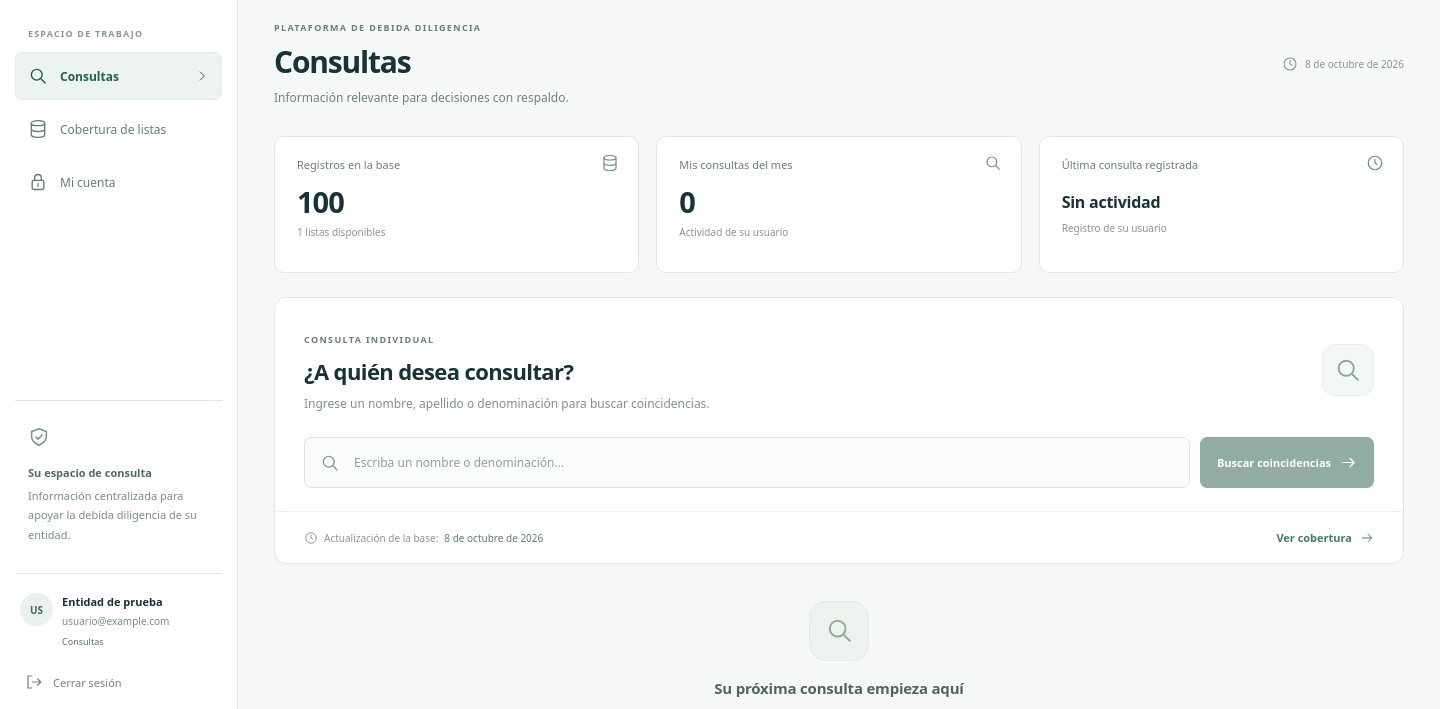
filtrar por lista y relevancia no ejecuta otra búsqueda ni altera el historial
The width and height of the screenshot is (1440, 709).
Expected: the button "Buscar coincidencias" is disabled, top-left (1200, 437), bottom-right (1374, 488)
Expected: the text "usuario@example.com" is shown, top-left (62, 614), bottom-right (170, 628)
Type "Persona" into the search field.
click(763, 463); type("Persona")  # box top-left (352, 438), bottom-right (1174, 487)
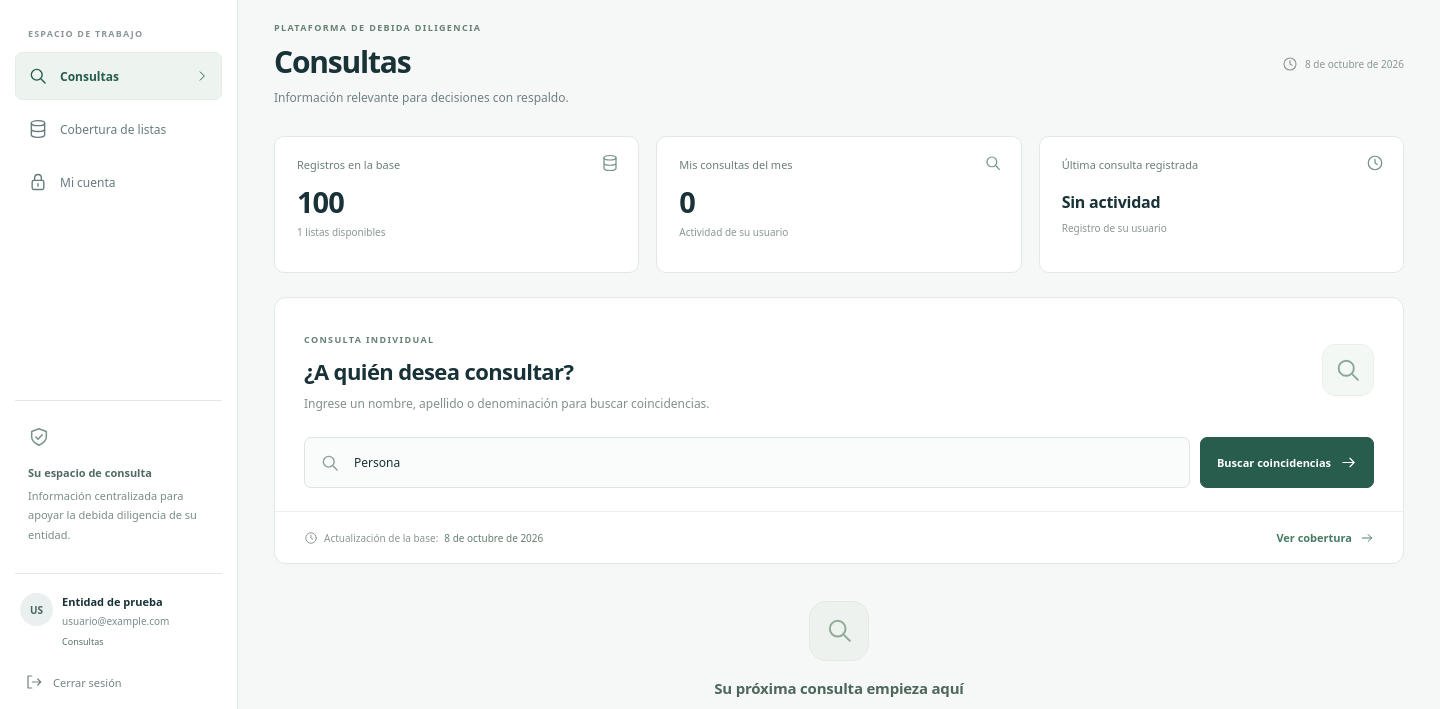
Click the button "Buscar coincidencias".
click(1287, 463)  # box top-left (1200, 437), bottom-right (1374, 488)
(page scrolled)
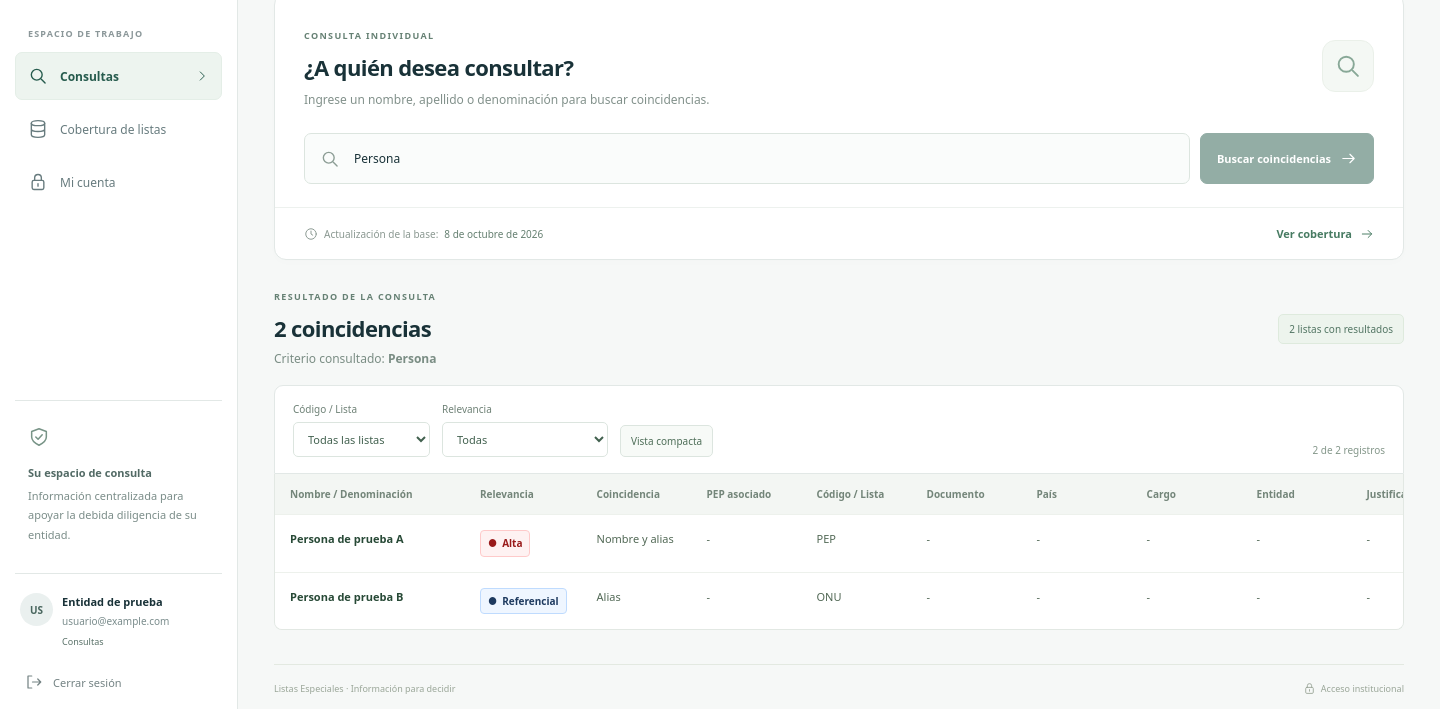
Expected: the text "Persona de prueba A" is shown, top-left (275, 514), bottom-right (465, 572)
Select "PEP" in the dropdown labelled "Código / Lista" at [362, 440], box top-left (293, 422), bottom-right (430, 457)
(page scrolled)
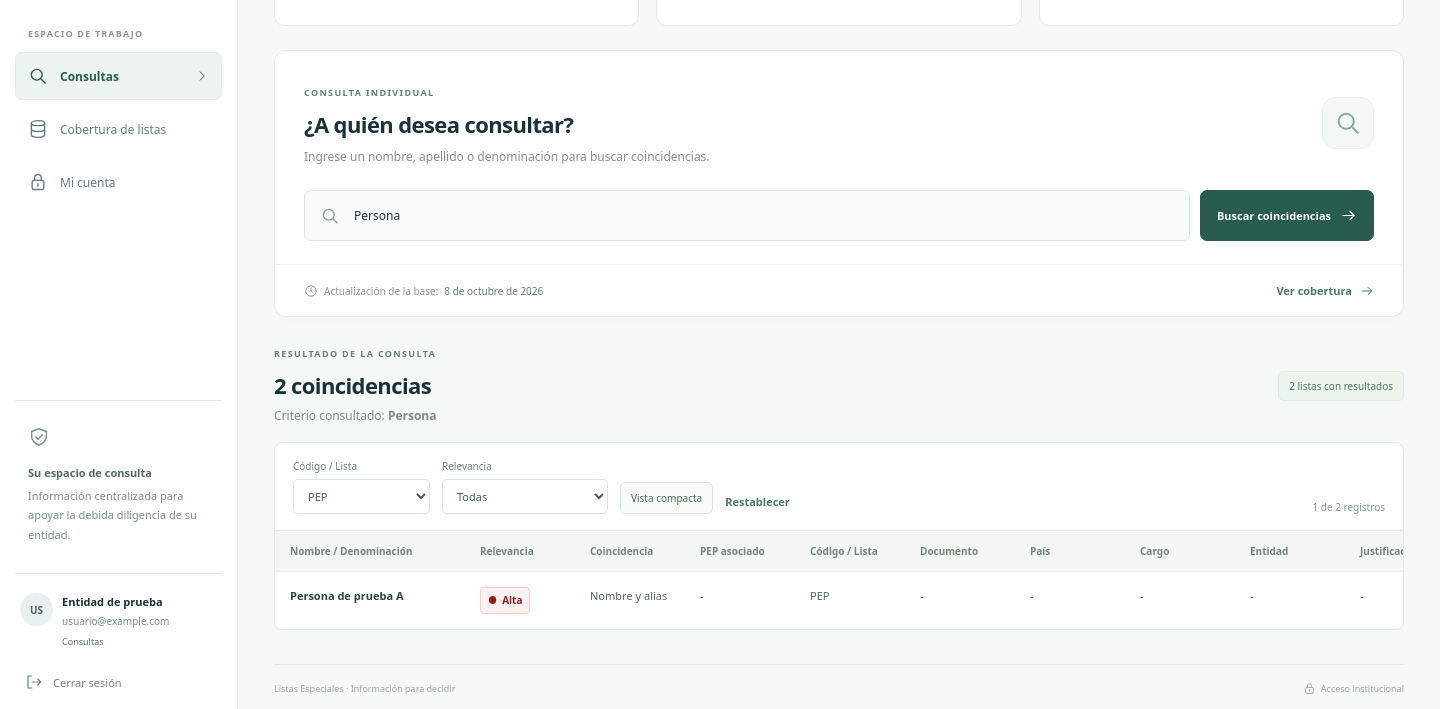
Expected: the text "Persona de prueba B" is gone
Select "Referencial · Alias" in the dropdown labelled "Relevancia" at [525, 497], box top-left (442, 479), bottom-right (608, 514)
(page scrolled)
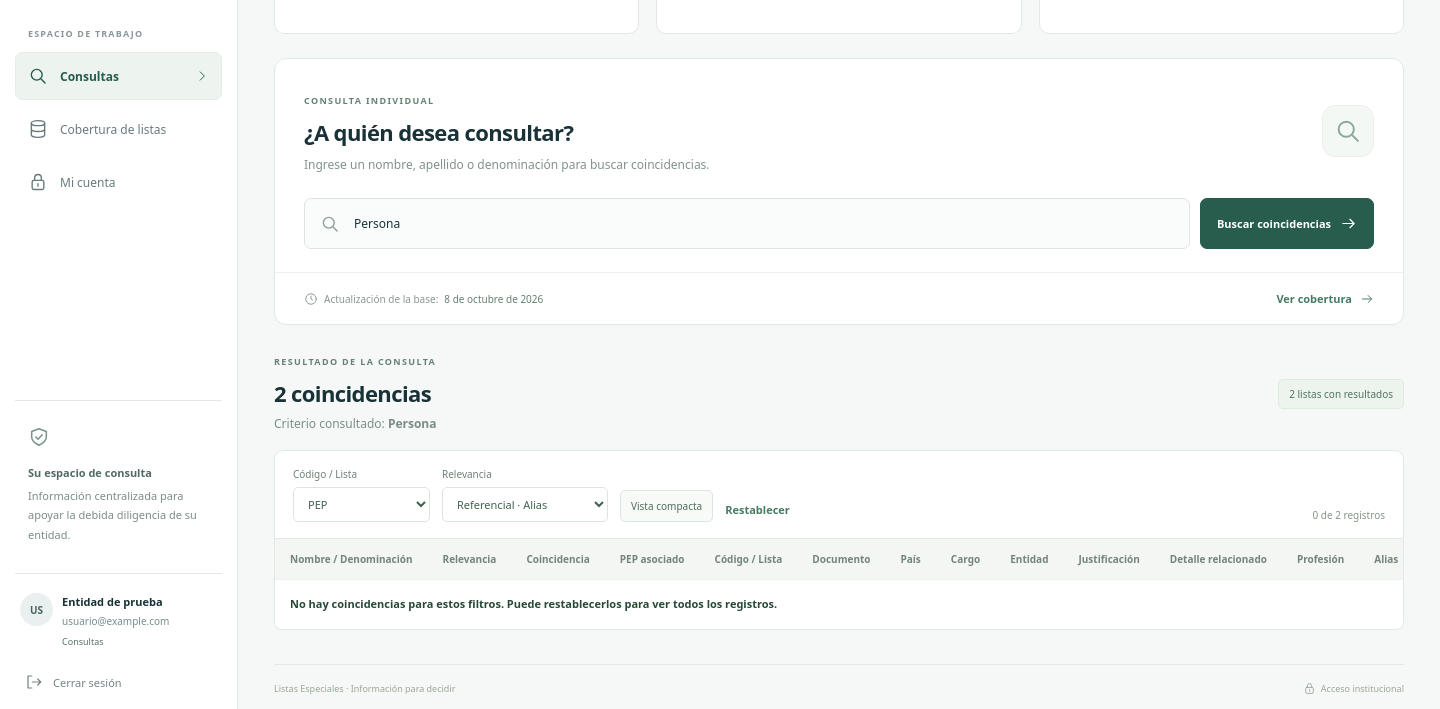
Expected: the text "Persona de prueba A" is gone
Expected: the text "No hay coincidencias para estos filtros" is shown, top-left (290, 596), bottom-right (777, 611)
Click the button "Restablecer".
click(758, 510)  # box top-left (725, 497), bottom-right (790, 522)
(page scrolled)
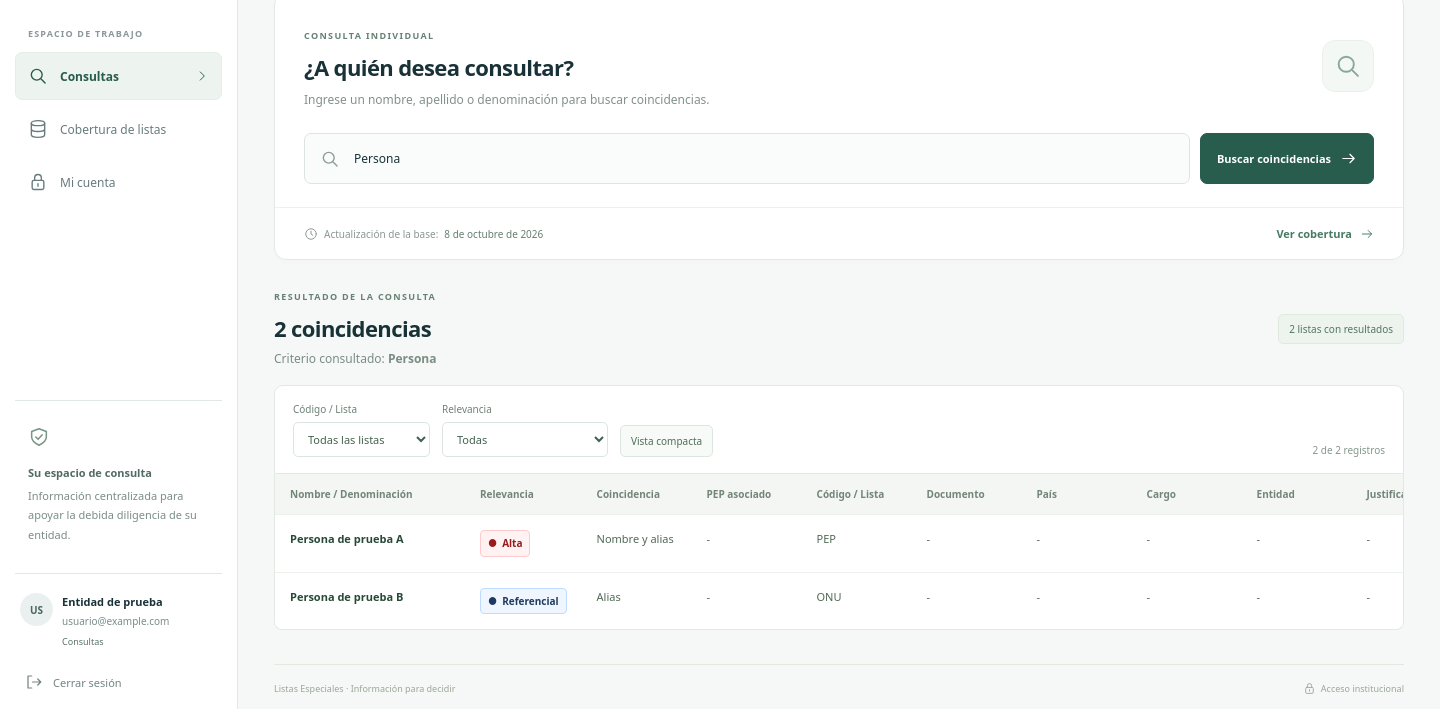
Expected: the text "Persona de prueba B" is shown, top-left (275, 572), bottom-right (465, 629)
